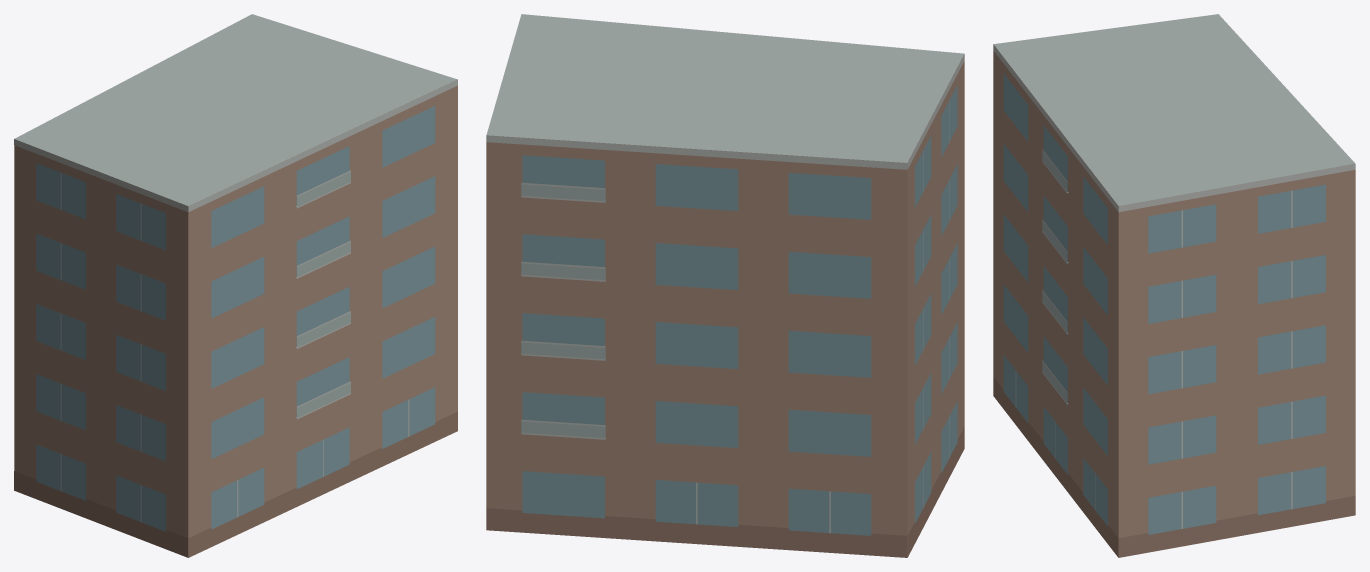
The model's file is survey-upis-32747285.glb.
3 renders of one model, left to right at view 1: azimuth 30°, elevation 25°; view 2: azimuth 150°, elevation 25°; view 3: azimuth 270°, elevation 25°, orthographic. The views are drawn at different scales.
Parts seen in each view (by area): view 1: survey-upis-32747285.tmp; view 2: survey-upis-32747285.tmp; view 3: survey-upis-32747285.tmp.
Boxes of the visible parts, x1=… form: survey-upis-32747285.tmp: x1=14, y1=14, x2=457, y2=557; survey-upis-32747285.tmp: x1=486, y1=14, x2=964, y2=557; survey-upis-32747285.tmp: x1=993, y1=14, x2=1355, y2=557.
Bounding box in the file's own units: 16.53 × 14.1 × 13.17.
